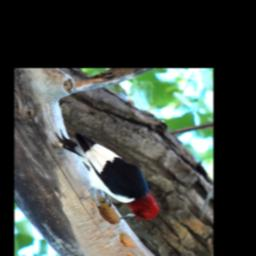Woodpecker: (51, 129, 157, 222)
